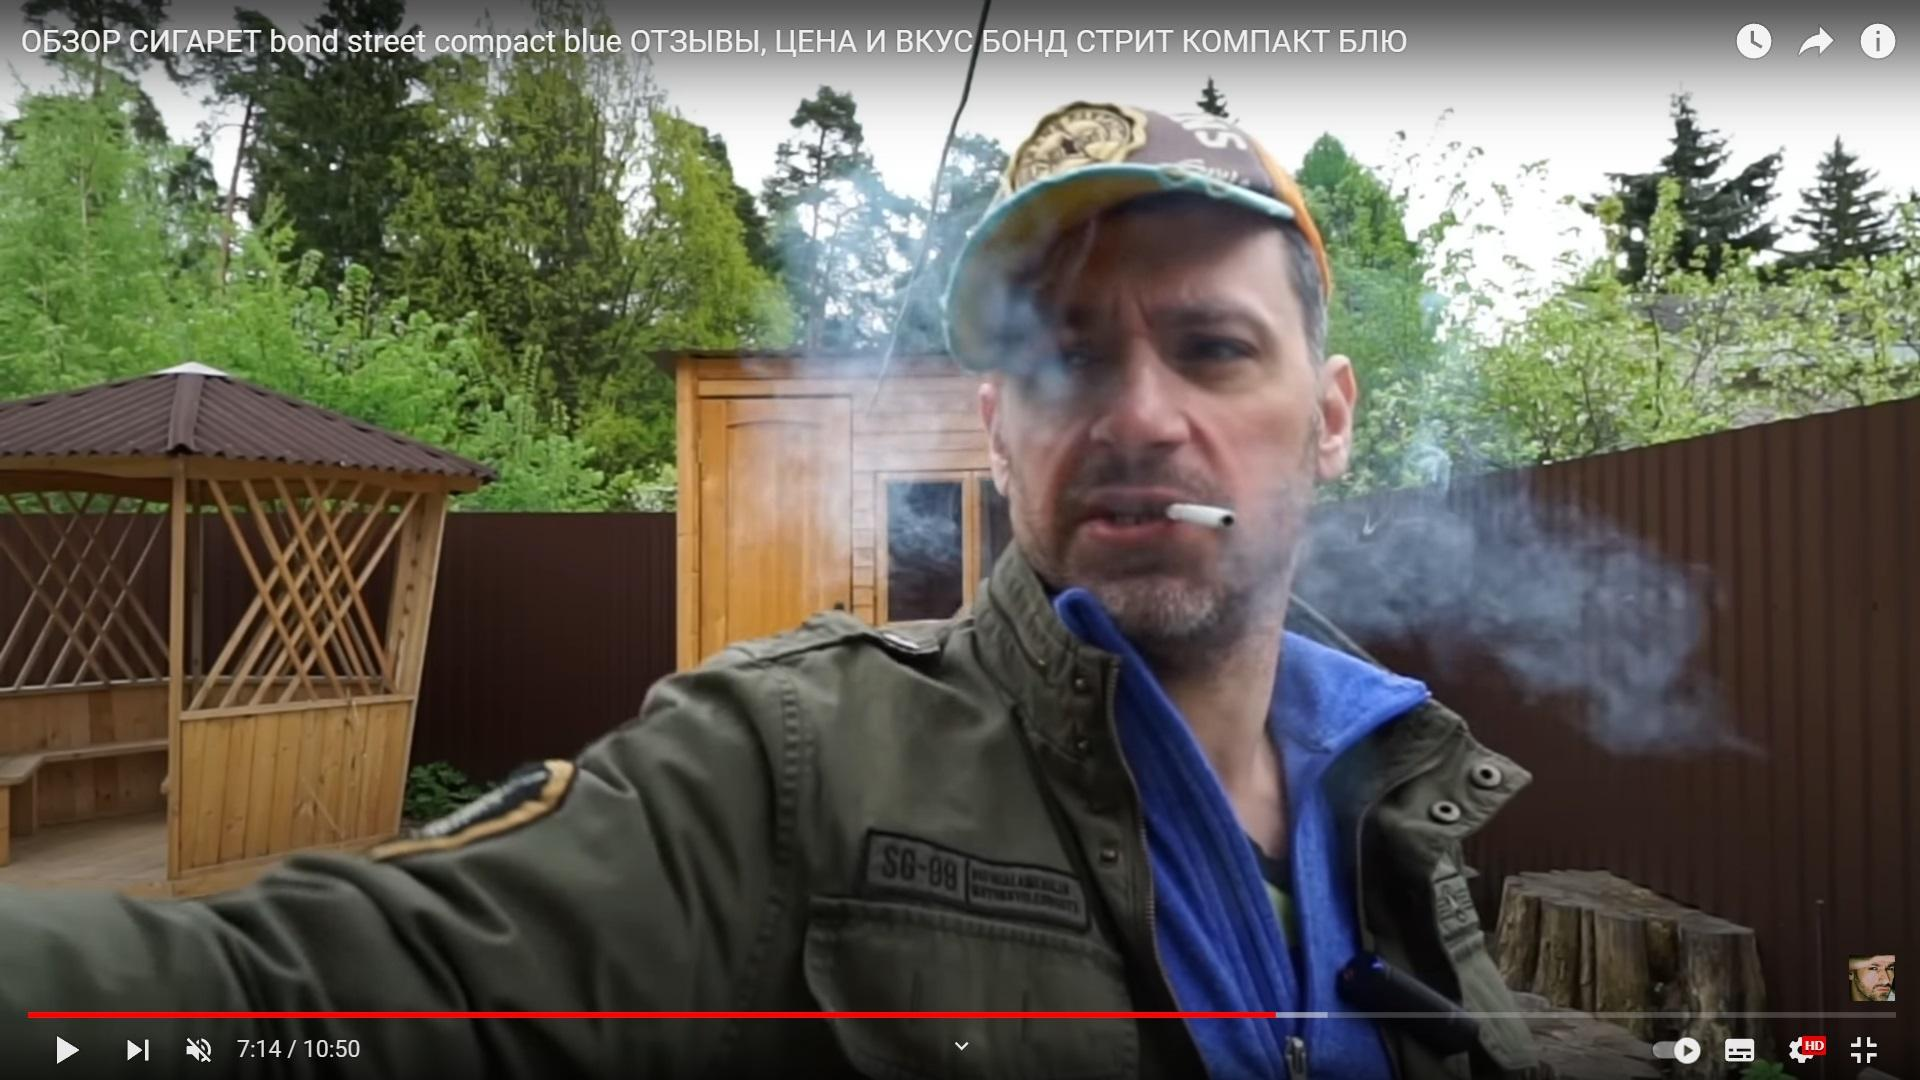cigarette: (1163, 504, 1237, 529)
